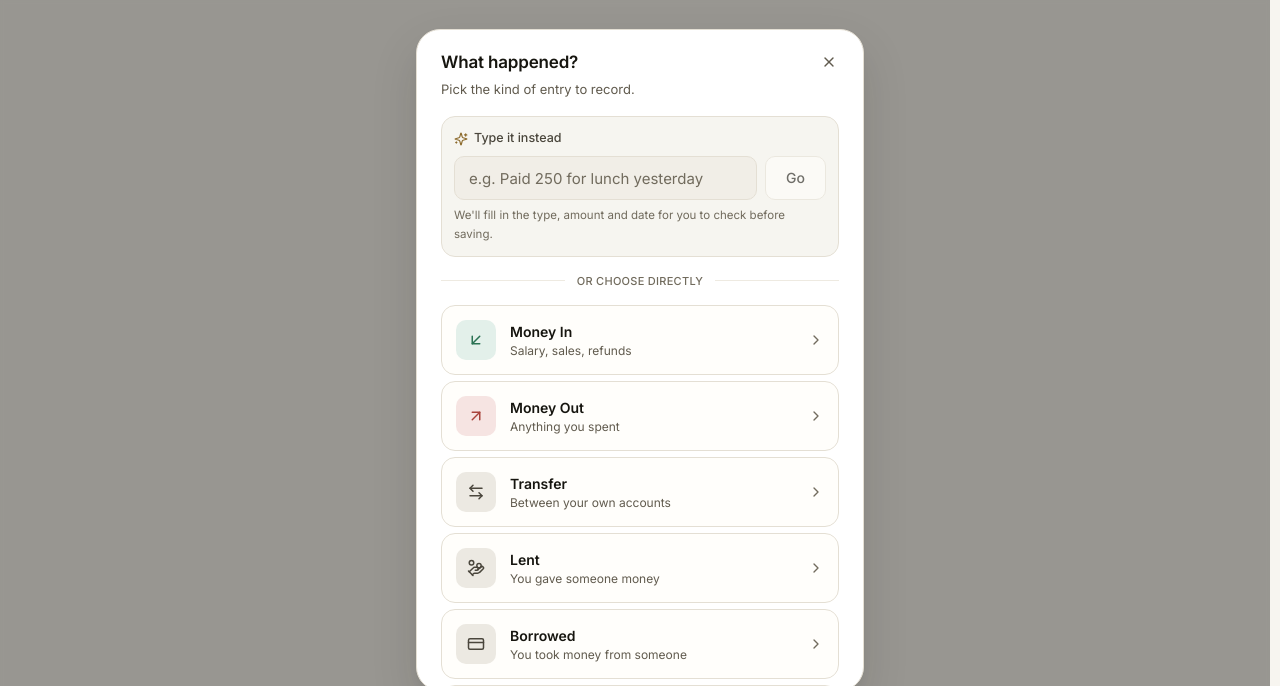
Test case: <QuickAddSheet> typed entry reads accounts and asks about the rest (§Phase 2) › selects the account it was told about and does not ask for it
The image size is (1280, 686).
Step 1. Type "Paid 250 for lunch from Bank" into the field with id "nl-quick-entry" → x=606, y=178, box [454,156,757,200]
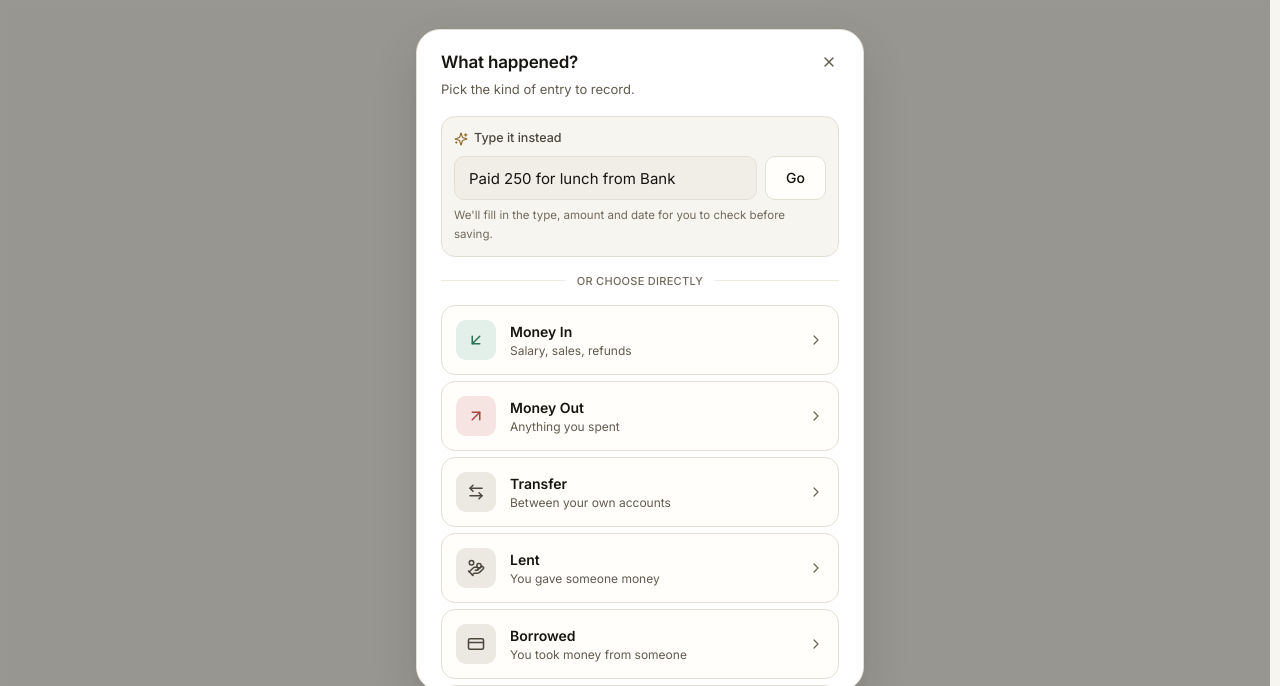
Step 2. Click the button "Go" → x=796, y=178, box [765,156,826,200]
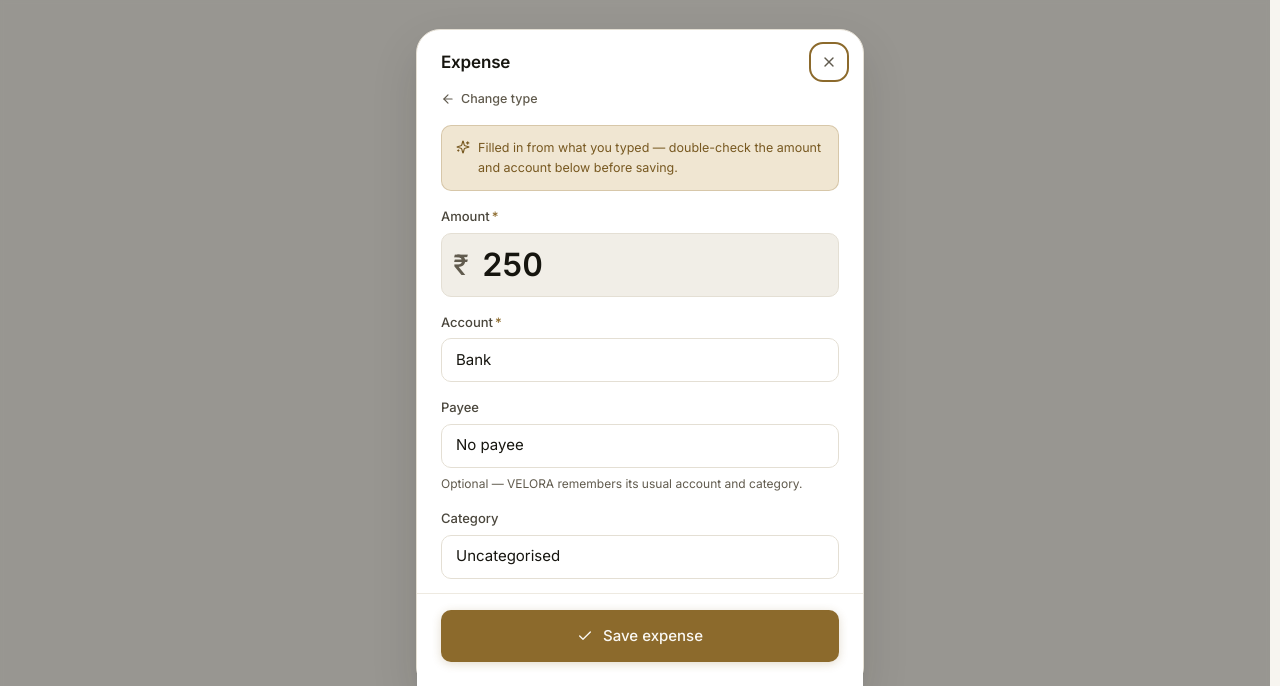
Now the dropdown labelled "Account*" shows "Bank", box [441,338,839,382]
